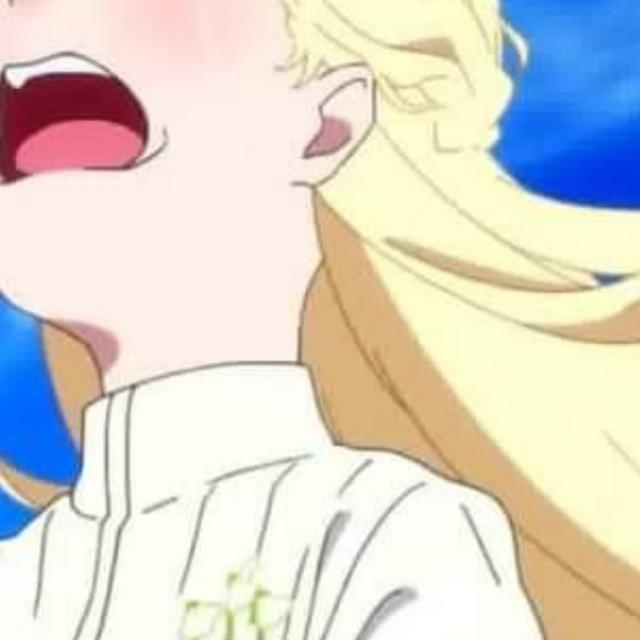Sad: (0, 0, 433, 429)
